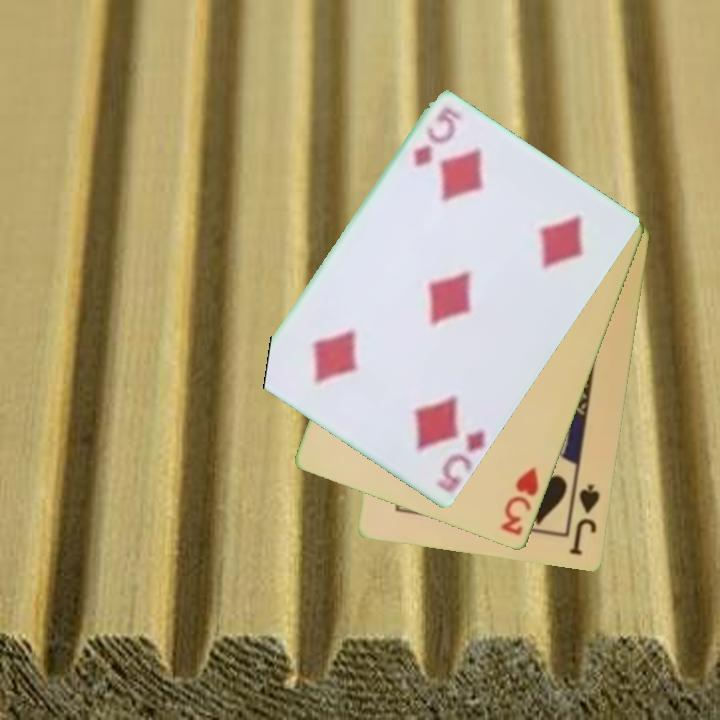3h: (497, 463, 542, 539)
5d: (436, 426, 488, 492), (410, 104, 461, 171)
Js: (566, 481, 603, 558)
